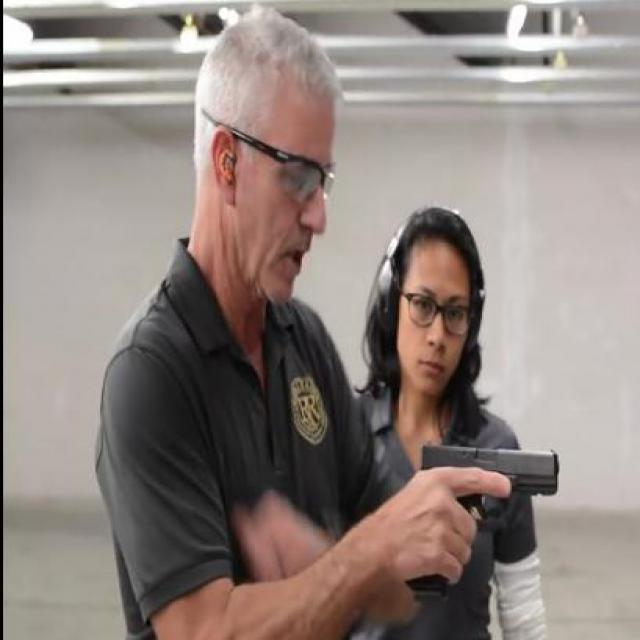gun: (399, 433, 562, 593)
